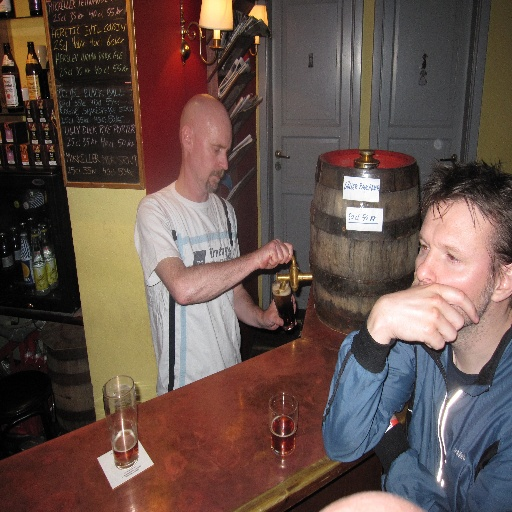hand: (368, 278, 474, 356), (317, 491, 399, 511), (255, 237, 294, 273), (263, 293, 297, 333)
